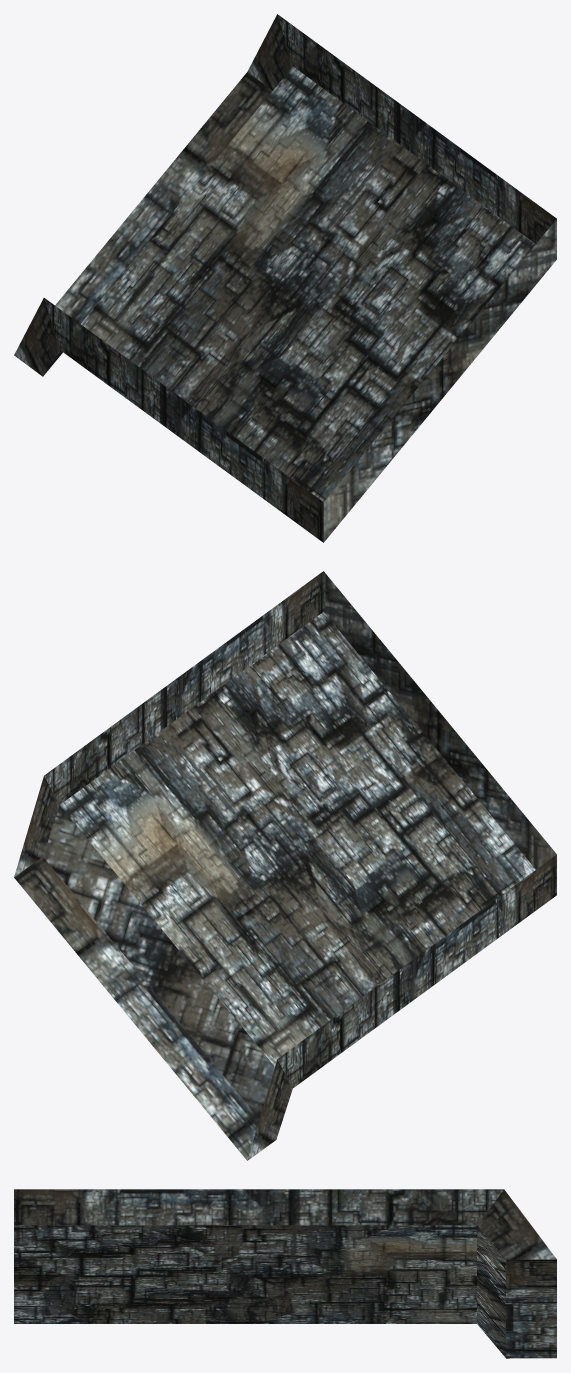
Rendered from block_4.FBX.
3 views of the same model, one above another, from view 1: azimuth 30°, elevation 25°; view 2: azimuth 150°, elevation 25°; view 3: azimuth 270°, elevation 25° (orthographic). The views are drawn at different scales.
Visible parts, largest first — view 1: Object006; view 2: Object006; view 3: Object006.
Boxes of the visible parts, box(x1,y1,x2,y2) form: Object006: box(14, 14, 556, 542); Object006: box(14, 571, 556, 1160); Object006: box(14, 1189, 556, 1358).
Size of the model in its own units: 177 by 222 by 407.
